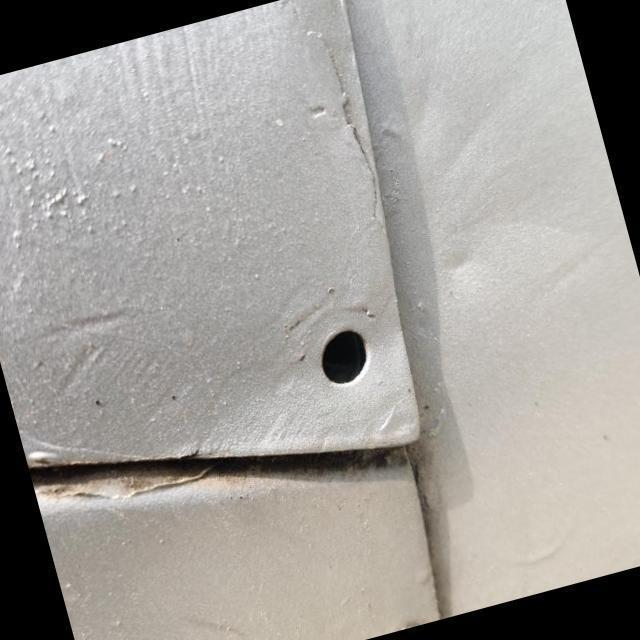Missing Fastener: (322, 329, 366, 383)
